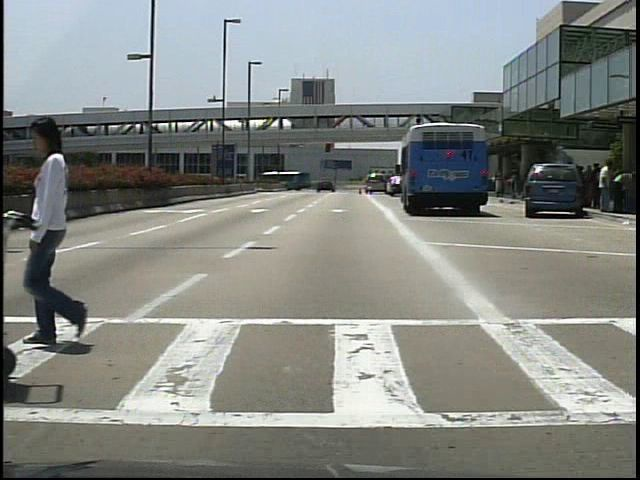person: (20, 114, 112, 355), (598, 159, 618, 212), (587, 161, 605, 215)
